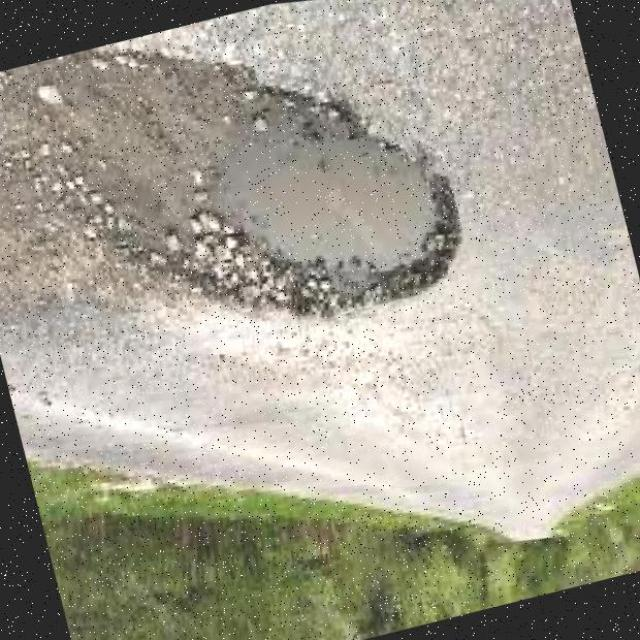pothole: (48, 51, 474, 319)
